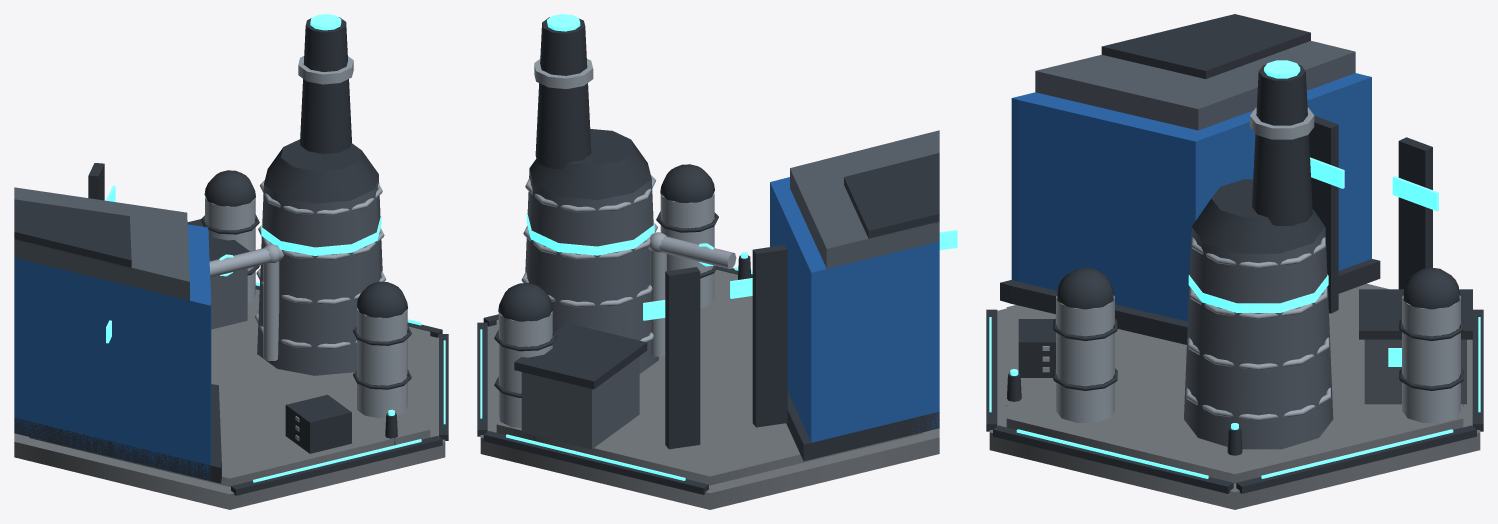
The model's file is forge-depot-tile-e.glb.
3 renders of one model, left to right at view 1: azimuth 30°, elevation 25°; view 2: azimuth 150°, elevation 25°; view 3: azimuth 270°, elevation 25°, orthographic. The views are drawn at different scales.
Visible parts, largest first — view 1: hull_body_e, tile_deck_e, reactor_drum, base_plate_e, hull_roof_e, hull_crown_e, stack, reactor_cap, tank_1, hull_skirt_e, vent_block_r, edge_trim_e_0 (+14 smaller); view 2: hull_body_e, tile_deck_e, reactor_drum, base_plate_e, hull_roof_e, service_block_r, flank_rib_r_3, flank_rib_r_4, stack, hull_crown_e, reactor_cap, service_roof_r (+15 smaller); view 3: hull_body_e, tile_deck_e, reactor_drum, hull_roof_e, base_plate_e, hull_crown_e, stack, tank_1, tank_0, reactor_cap, hull_skirt_e, flank_rib_r_4 (+21 smaller).
Boxes of the visible parts, x1,y1,x2,y2 form: hull_body_e: [14, 224, 211, 480]; tile_deck_e: [29, 289, 430, 486]; reactor_drum: [257, 174, 382, 375]; base_plate_e: [14, 336, 445, 509]; hull_roof_e: [14, 187, 189, 300]; hull_crown_e: [14, 199, 131, 268]; stack: [300, 17, 351, 153]; reactor_cap: [264, 139, 378, 203]; tank_1: [357, 308, 407, 418]; hull_skirt_e: [14, 384, 221, 483]; vent_block_r: [285, 394, 351, 453]; edge_trim_e_0: [231, 436, 442, 495]; hull_body_e: [770, 177, 939, 442]; tile_deck_e: [496, 269, 923, 485]; reactor_drum: [525, 168, 658, 373]; base_plate_e: [480, 325, 939, 509]; hull_roof_e: [790, 130, 939, 268]; service_block_r: [521, 356, 639, 449]; flank_rib_r_3: [752, 245, 787, 427]; flank_rib_r_4: [665, 267, 700, 449]; stack: [535, 17, 591, 169]; hull_crown_e: [844, 153, 939, 238]; reactor_cap: [529, 129, 651, 199]; service_roof_r: [514, 323, 647, 389]; hull_body_e: [1011, 73, 1371, 321]; tile_deck_e: [1006, 283, 1463, 483]; reactor_drum: [1184, 227, 1333, 449]; hull_roof_e: [1035, 41, 1355, 130]; base_plate_e: [989, 308, 1480, 509]; hull_crown_e: [1101, 14, 1310, 78]; stack: [1252, 64, 1312, 225]; tank_1: [1056, 295, 1114, 422]; tank_0: [1402, 295, 1460, 422]; reactor_cap: [1192, 179, 1325, 253]; hull_skirt_e: [1000, 259, 1380, 344]; flank_rib_r_4: [1398, 137, 1432, 289].
Size of the model in its own units: 14.4 by 10.87 by 12.65.
